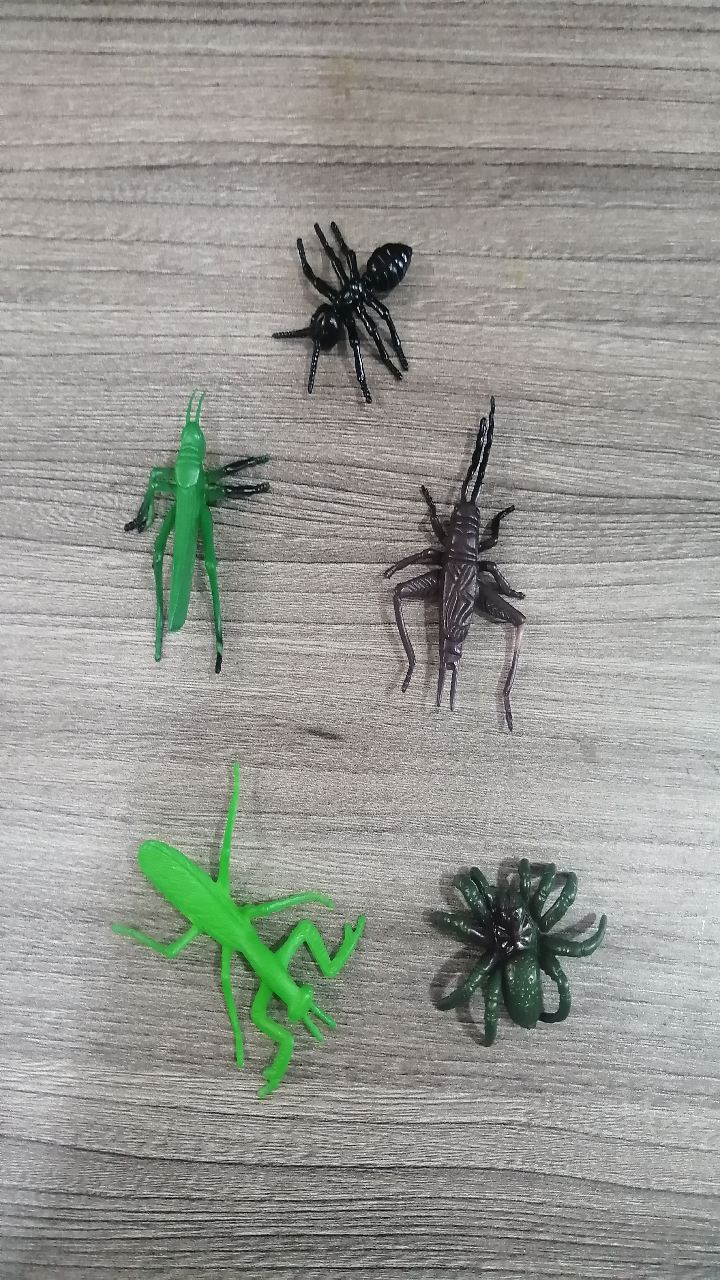intruso: (95, 742, 404, 1102), (352, 395, 577, 737), (84, 372, 303, 705), (406, 809, 641, 1068), (254, 183, 441, 429)
